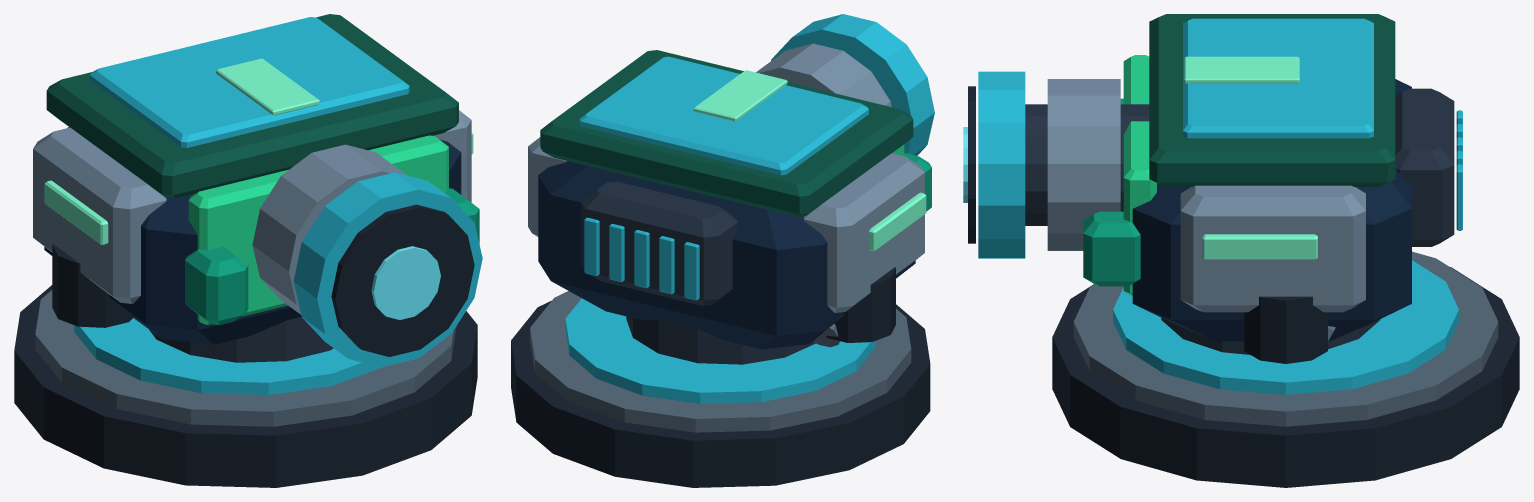
File: S2_AutoCannon.obj
The picture shows the model from 3 angles, left to right: view 1: azimuth 30°, elevation 25°; view 2: azimuth 150°, elevation 25°; view 3: azimuth 270°, elevation 25°; orthographic projection. The views are drawn at different scales.
Visible parts, largest first — view 1: GroundTurntable_1, HullUpper_6, TopArmor_8, OuterTurretRing_2, AuxSideMotor_14, MuzzleFace_12, BarrelRim_11, InnerRing_3, HullMain_5, BarrelCollar_10, FrontShield_7, FrontCheek_17 (+7 smaller); view 2: GroundTurntable_1, HullMain_5, HullUpper_6, TopArmor_8, OuterTurretRing_2, InnerRing_3, RearHeatsink_24, AuxSideMotor_14, BarrelRim_11, BarrelCollar_10, RotationGimbal_4, SideServo_16 (+9 smaller); view 3: GroundTurntable_1, TopArmor_8, OuterTurretRing_2, HullUpper_6, AuxSideMotor_19, InnerRing_3, HullMain_5, BarrelCollar_10, BarrelRim_11, RearHeatsink_24, SideServo_21, FrontCheek_22 (+6 smaller).
Boxes of the visible parts, x1=… form: GroundTurntable_1: x1=14, y1=285, x2=477, y2=487; HullUpper_6: x1=46, y1=14, x2=458, y2=198; TopArmor_8: x1=90, y1=17, x2=409, y2=147; OuterTurretRing_2: x1=35, y1=290, x2=456, y2=426; AuxSideMotor_14: x1=33, y1=127, x2=166, y2=303; MuzzleFace_12: x1=331, y1=204, x2=474, y2=356; BarrelRim_11: x1=293, y1=172, x2=482, y2=367; InnerRing_3: x1=74, y1=318, x2=381, y2=394; HullMain_5: x1=44, y1=127, x2=461, y2=344; BarrelCollar_10: x1=252, y1=144, x2=407, y2=314; FrontShield_7: x1=188, y1=135, x2=448, y2=324; FrontCheek_17: x1=185, y1=246, x2=248, y2=324; GroundTurntable_1: x1=511, y1=301, x2=930, y2=487; HullMain_5: x1=538, y1=161, x2=915, y2=349; HullUpper_6: x1=540, y1=50, x2=913, y2=216; TopArmor_8: x1=579, y1=56, x2=868, y2=175; OuterTurretRing_2: x1=530, y1=291, x2=911, y2=432; InnerRing_3: x1=565, y1=298, x2=875, y2=403; RearHeatsink_24: x1=581, y1=181, x2=737, y2=305; AuxSideMotor_14: x1=803, y1=153, x2=924, y2=312; BarrelRim_11: x1=771, y1=14, x2=934, y2=155; BarrelCollar_10: x1=756, y1=43, x2=891, y2=107; RotationGimbal_4: x1=626, y1=316, x2=815, y2=364; SideServo_16: x1=826, y1=267, x2=895, y2=342; GroundTurntable_1: x1=1052, y1=267, x2=1519, y2=487; TopArmor_8: x1=1183, y1=18, x2=1373, y2=138; OuterTurretRing_2: x1=1073, y1=251, x2=1498, y2=426; HullUpper_6: x1=1149, y1=14, x2=1395, y2=186; AuxSideMotor_19: x1=1180, y1=185, x2=1365, y2=312; InnerRing_3: x1=1113, y1=260, x2=1458, y2=394; HullMain_5: x1=1132, y1=79, x2=1411, y2=341; BarrelCollar_10: x1=1047, y1=79, x2=1120, y2=250; BarrelRim_11: x1=978, y1=71, x2=1025, y2=258; RearHeatsink_24: x1=1395, y1=88, x2=1454, y2=246; SideServo_21: x1=1244, y1=296, x2=1327, y2=363; FrontCheek_22: x1=1083, y1=211, x2=1140, y2=286.
Size of the model in its own units: 1.54 by 1.17 by 1.83.
